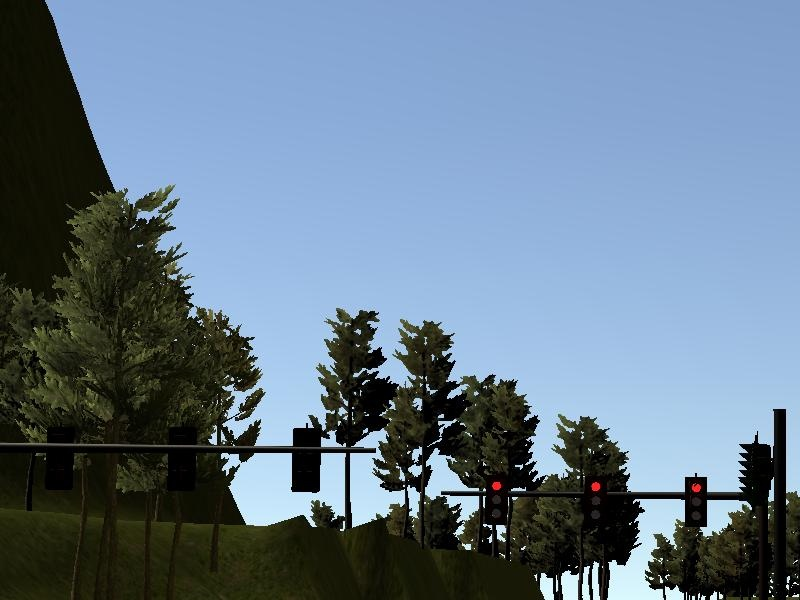traffic_light_red: (467, 472, 751, 530)
